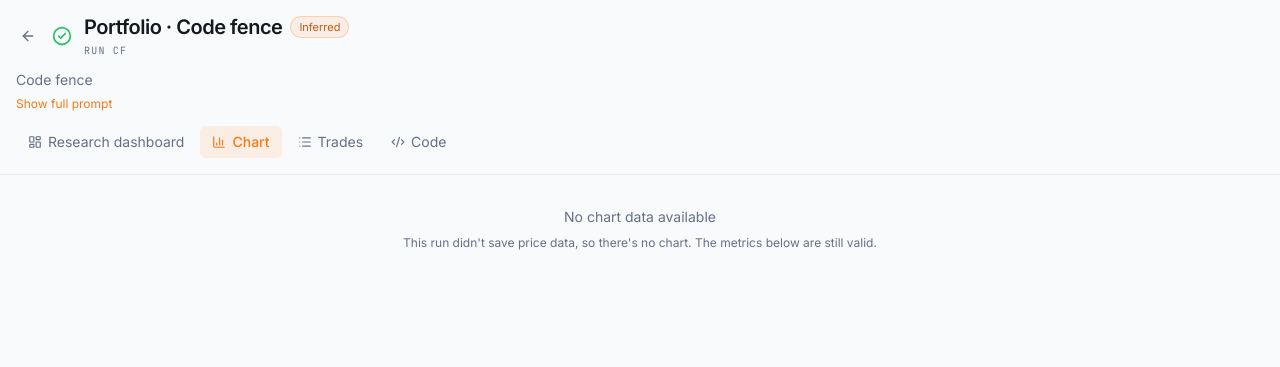
it: RunDetail missing readings › a code file that contains a markdown fence stays one code block
Expected: the text "Code fence" is shown, [16,71,93,88]
Click the tab "Code" at coordinates (419, 142), box [379,126,458,158]
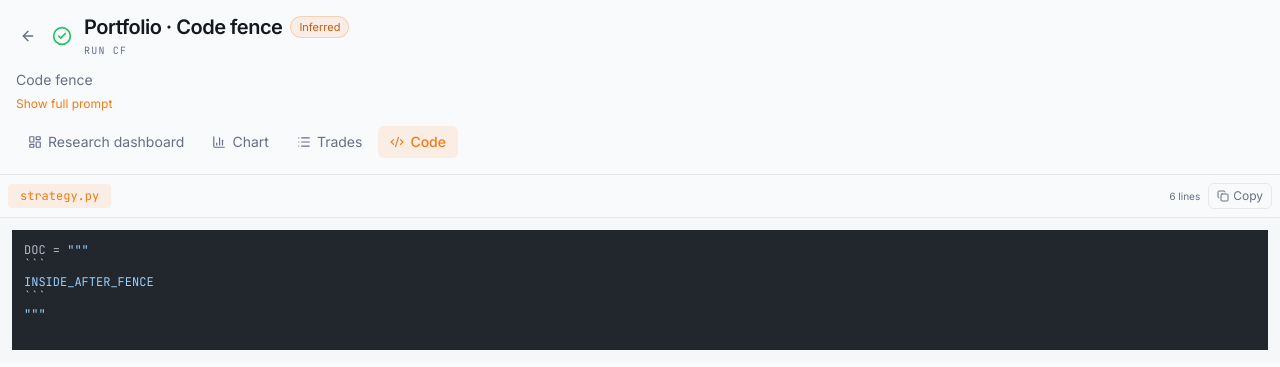
Expected: the text "DOC = \"\"\" ``` INSIDE_AFTER_FENCE ``` \"\"\"" is shown, [12,230,1268,350]
